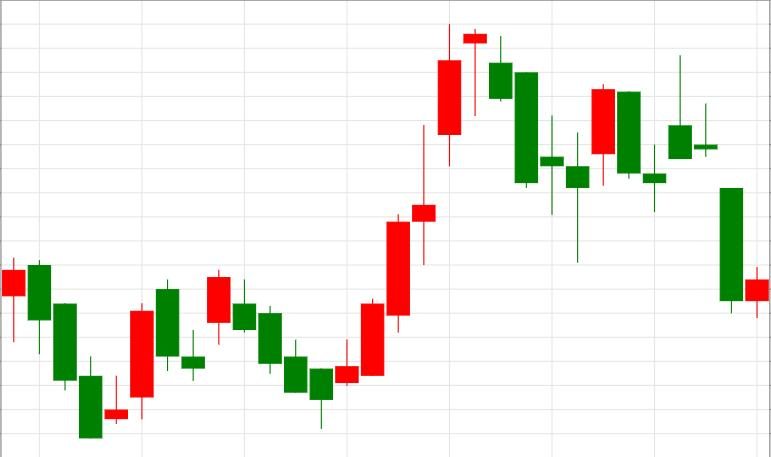evening_star_fall: (336, 24, 512, 386)
